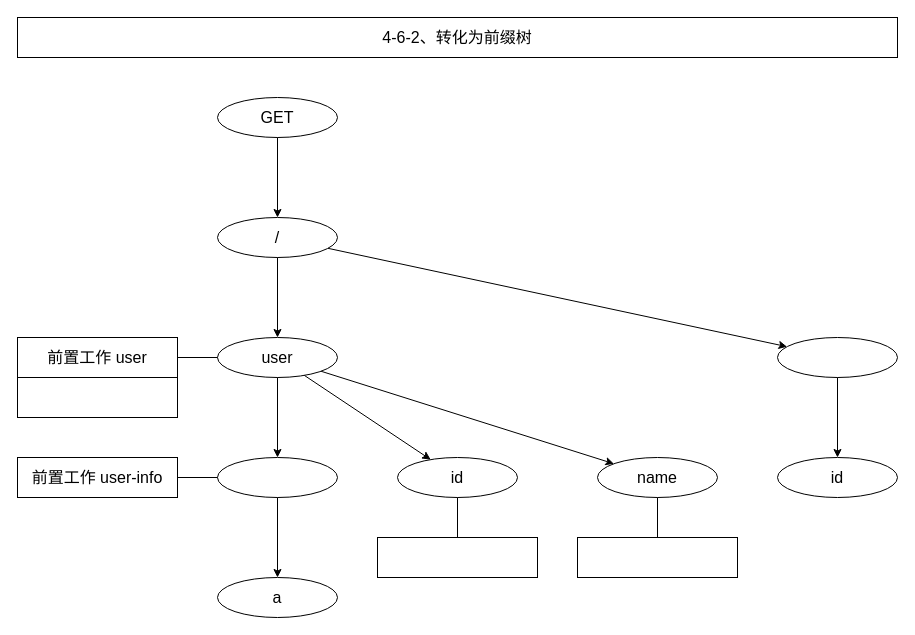
The diagram is 915 pixels wide and 635 high, and some of its shapes have lost their labels. Here are the shapes that lost their labels. From the top down, the centre of each, then its label:
the point at 837,357: order
the point at 97,397: 后置工作 user
the point at 277,477: info
the point at 457,557: 前置工作 user-id
the point at 657,557: 后制工作 user-name
